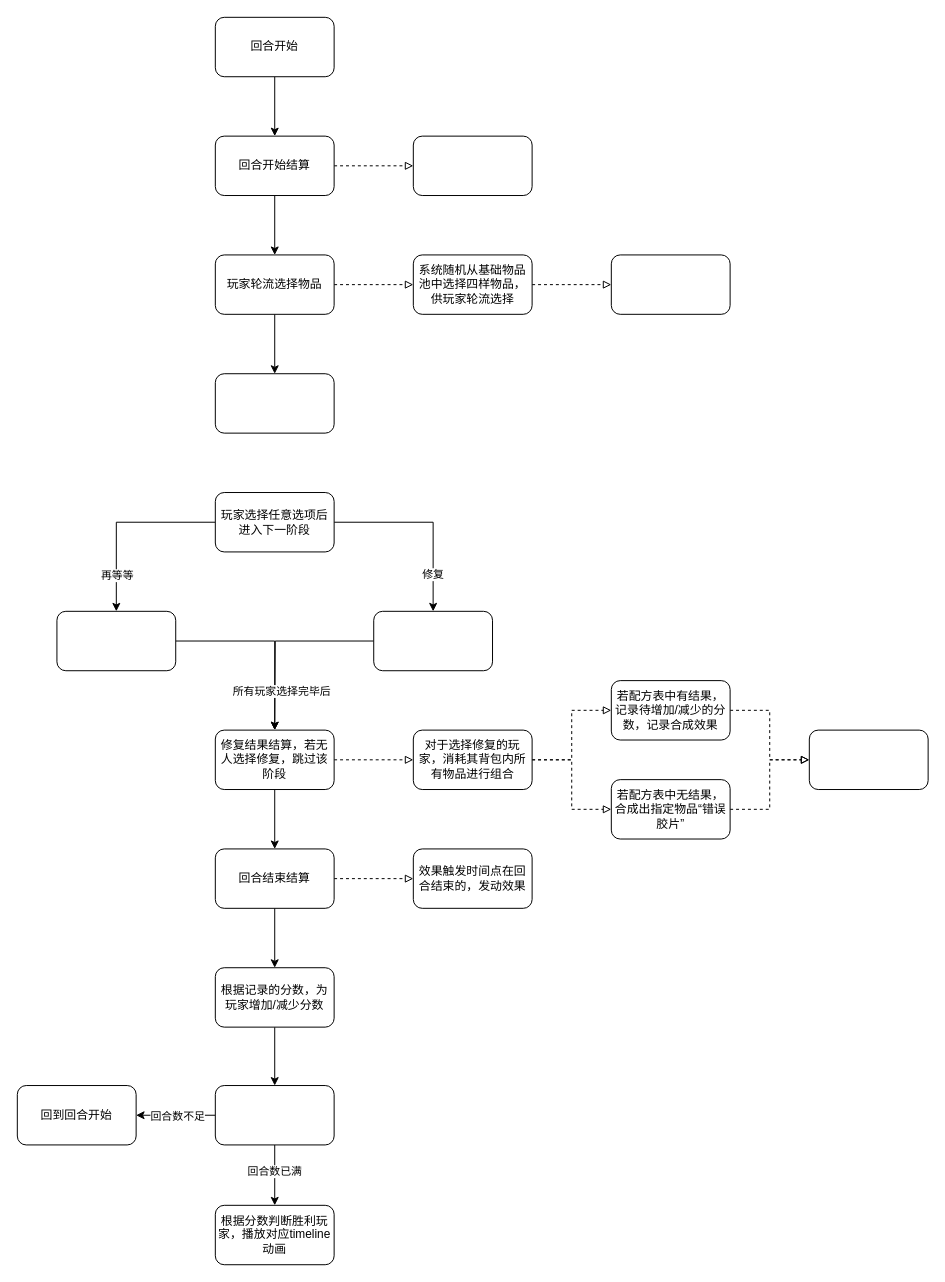
This 945x1282 diagram has some shape labels left out. The shapes that lost their labels are listed below. From the top down, each one's centre as x and y in pixels, then its label:
At point (472, 165): "效果触发时间点在回合开始的，发动效果".
At point (670, 284): "每件物品被选择后不能再被其他玩家选择".
At point (274, 403): "玩家各自在自己的背包内放置物品".
At point (116, 640): "无任何效果".
At point (433, 640): "记录该玩家选择修复".
At point (868, 759): "根据组合结果，依次播放所有玩家对应的timeline动画".
At point (274, 1115): "已过回合数加一".
